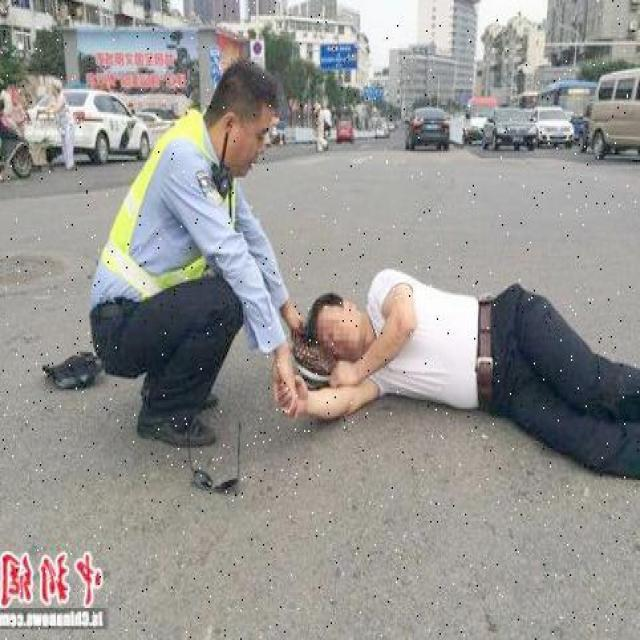fall: (296, 258, 633, 448)
